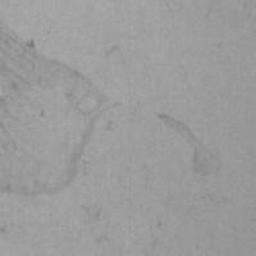Water spot: (0, 0, 150, 214), (183, 111, 247, 179)
